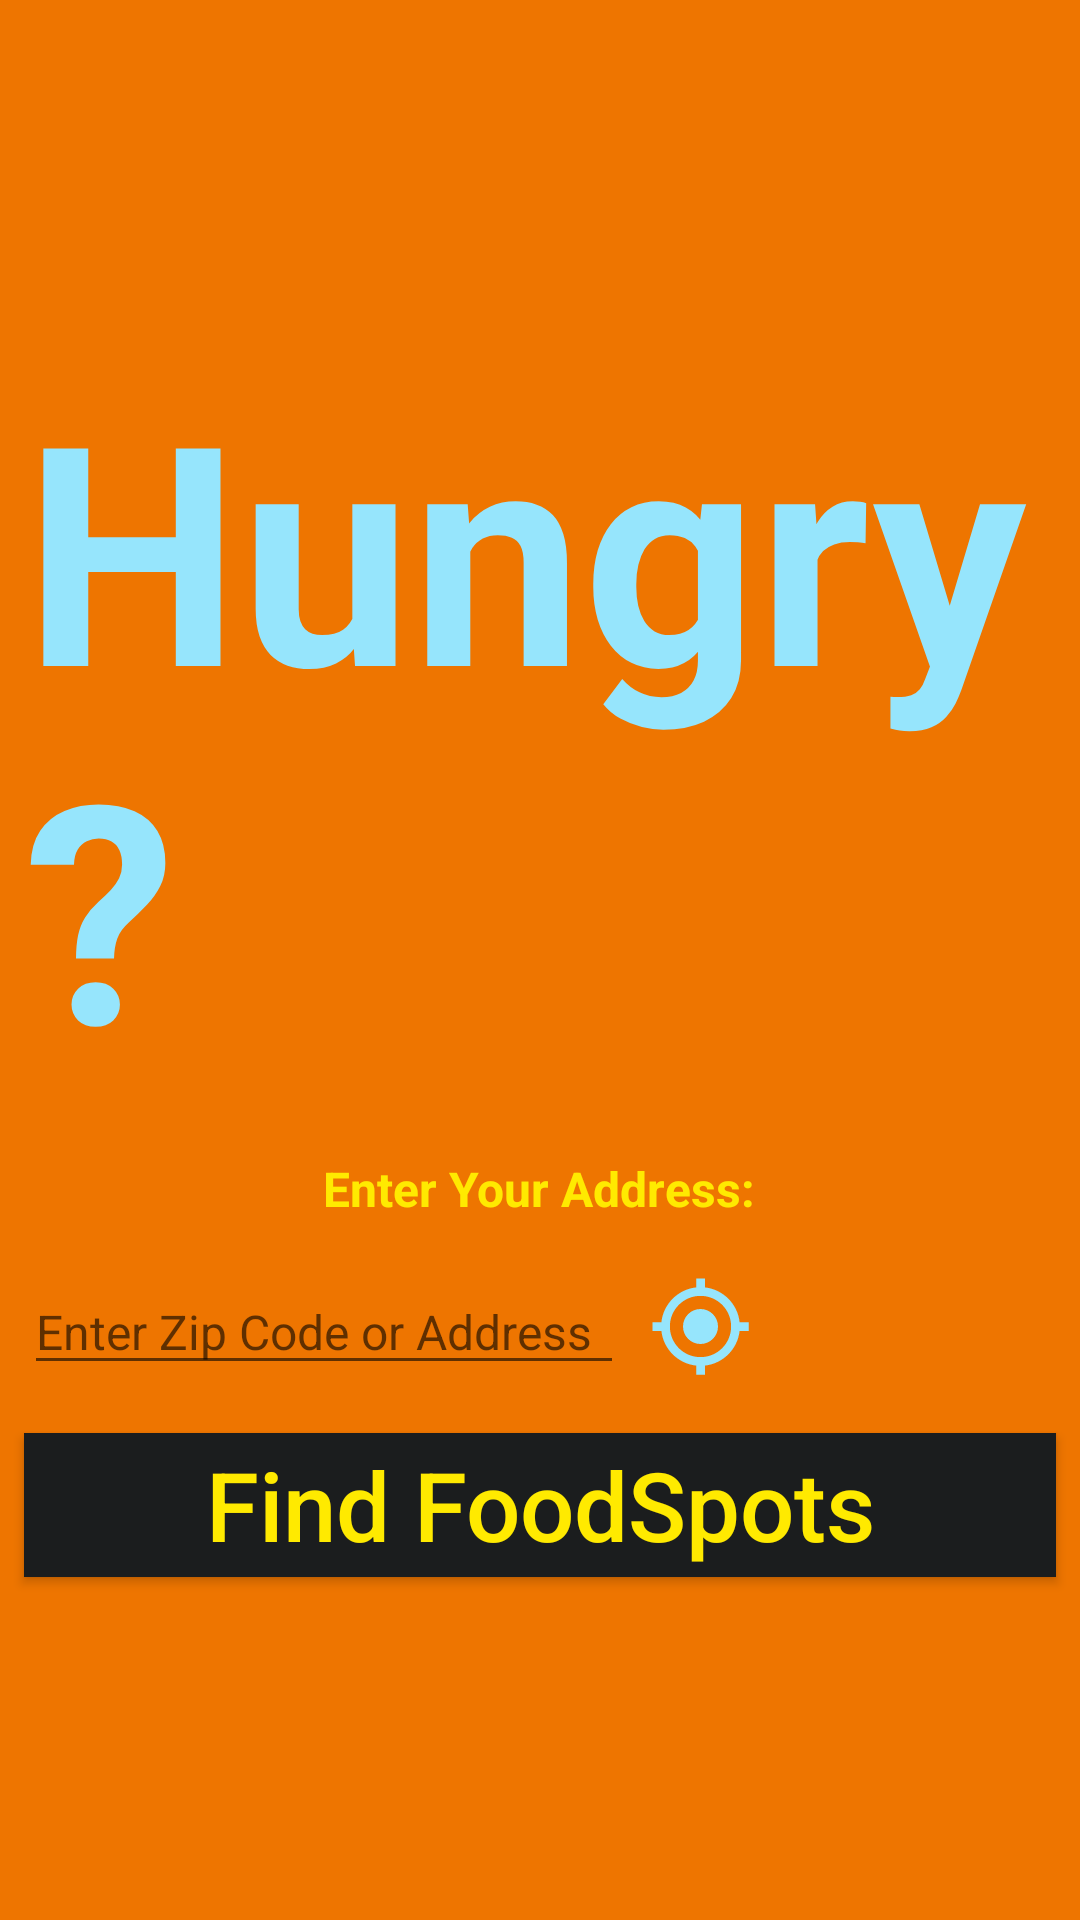

Where icons sit on this 1080x1920 app screen, as region(x1, y1, x2, y2):
current location: region(652, 1278, 749, 1375)
